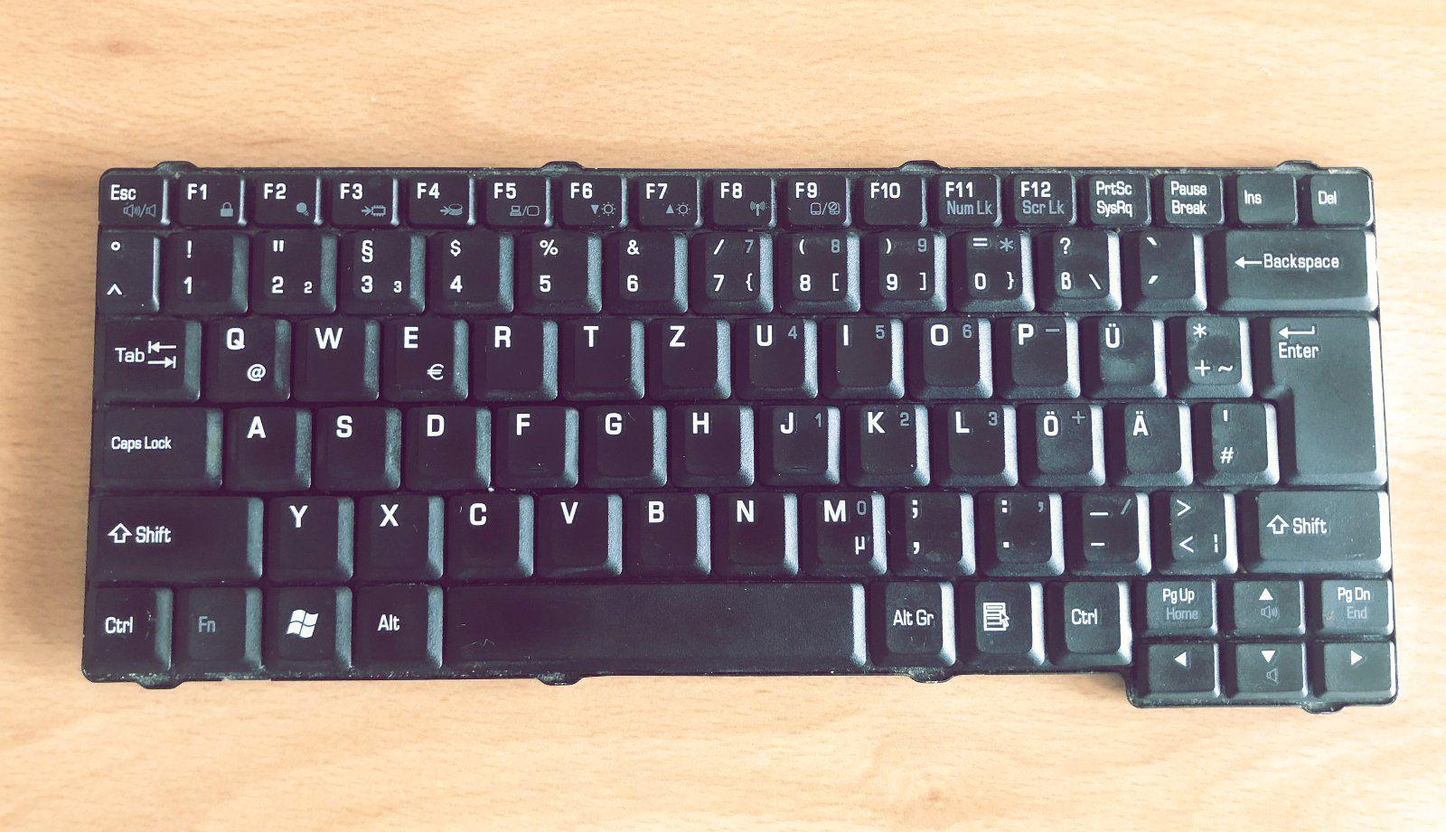0: (955, 224, 1027, 306)
1: (161, 225, 239, 308)
2: (249, 226, 327, 312)
3: (337, 224, 416, 311)
4: (427, 222, 500, 308)
5: (517, 224, 592, 310)
6: (607, 225, 678, 306)
7: (693, 228, 764, 308)
8: (780, 229, 853, 307)
9: (869, 227, 940, 307)
a: (223, 401, 298, 487)
accent: (1132, 223, 1195, 301)
ae: (1116, 395, 1182, 475)
alt-left: (350, 578, 427, 664)
altgr-right: (878, 575, 944, 655)
b: (624, 484, 700, 569)
c: (441, 485, 522, 575)
caret: (92, 227, 155, 313)
comma: (893, 485, 963, 569)
d: (400, 398, 476, 484)
del: (1211, 222, 1366, 303)
e: (380, 313, 462, 398)
enter: (1254, 309, 1378, 477)
f: (493, 398, 566, 481)
g: (582, 398, 653, 476)
h: (669, 397, 744, 479)
hash: (1200, 396, 1268, 478)
i: (825, 312, 896, 389)
j: (760, 397, 831, 479)
k: (849, 396, 921, 480)
keyboard: (67, 154, 1402, 709)
l: (942, 398, 1006, 475)
less: (1160, 483, 1230, 570)
m: (801, 484, 880, 570)
minus: (1077, 485, 1141, 565)
n: (712, 484, 787, 567)
o: (914, 311, 982, 388)
oe: (1025, 396, 1093, 475)
p: (1002, 309, 1069, 388)
plus: (1173, 308, 1242, 389)
point: (987, 487, 1056, 567)
q: (200, 311, 287, 400)
r: (473, 311, 544, 390)
s: (312, 400, 390, 489)
shift-left: (89, 488, 258, 578)
shift-lock: (91, 399, 207, 486)
shift-right: (1247, 482, 1383, 565)
space: (443, 577, 856, 668)
ss: (1042, 223, 1110, 299)
strg-left: (80, 581, 164, 672)
strg-right: (1056, 575, 1122, 653)
t: (565, 311, 633, 388)
tab: (97, 309, 191, 397)
u: (736, 310, 808, 390)
ue: (1081, 308, 1157, 391)
v: (532, 485, 611, 570)
w: (291, 309, 369, 398)
x: (354, 488, 433, 575)
y: (265, 490, 342, 578)
z: (651, 310, 719, 391)
